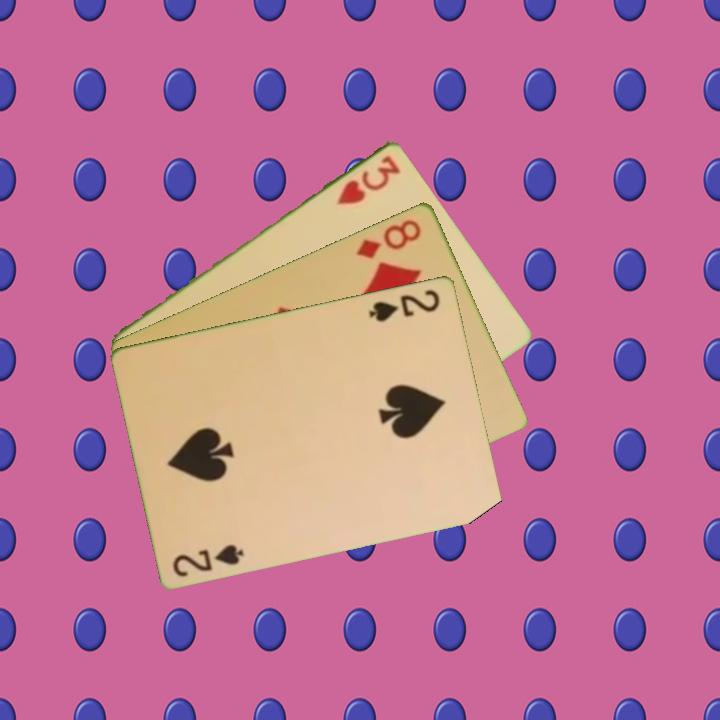2s: (365, 285, 443, 325), (169, 540, 247, 579)
3h: (334, 150, 404, 207)
8d: (353, 215, 425, 261)
